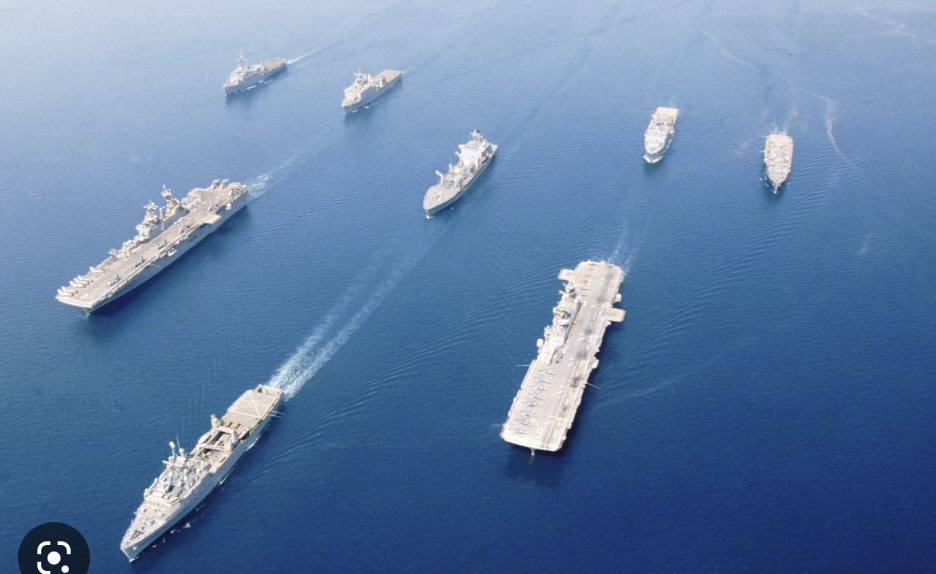ship: (94, 356, 300, 554), (36, 184, 266, 313), (540, 246, 626, 458), (401, 128, 501, 212), (748, 125, 806, 200), (336, 58, 407, 115), (637, 97, 693, 166), (227, 42, 290, 102)
